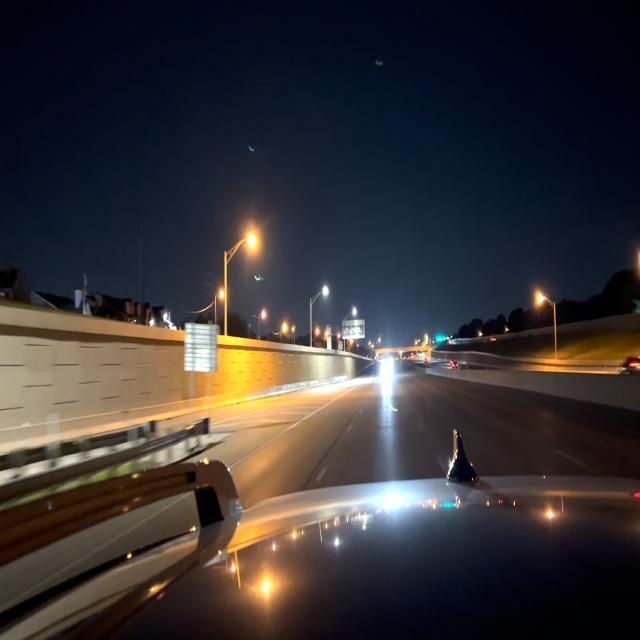back-of-sign: (185, 323, 218, 377)
